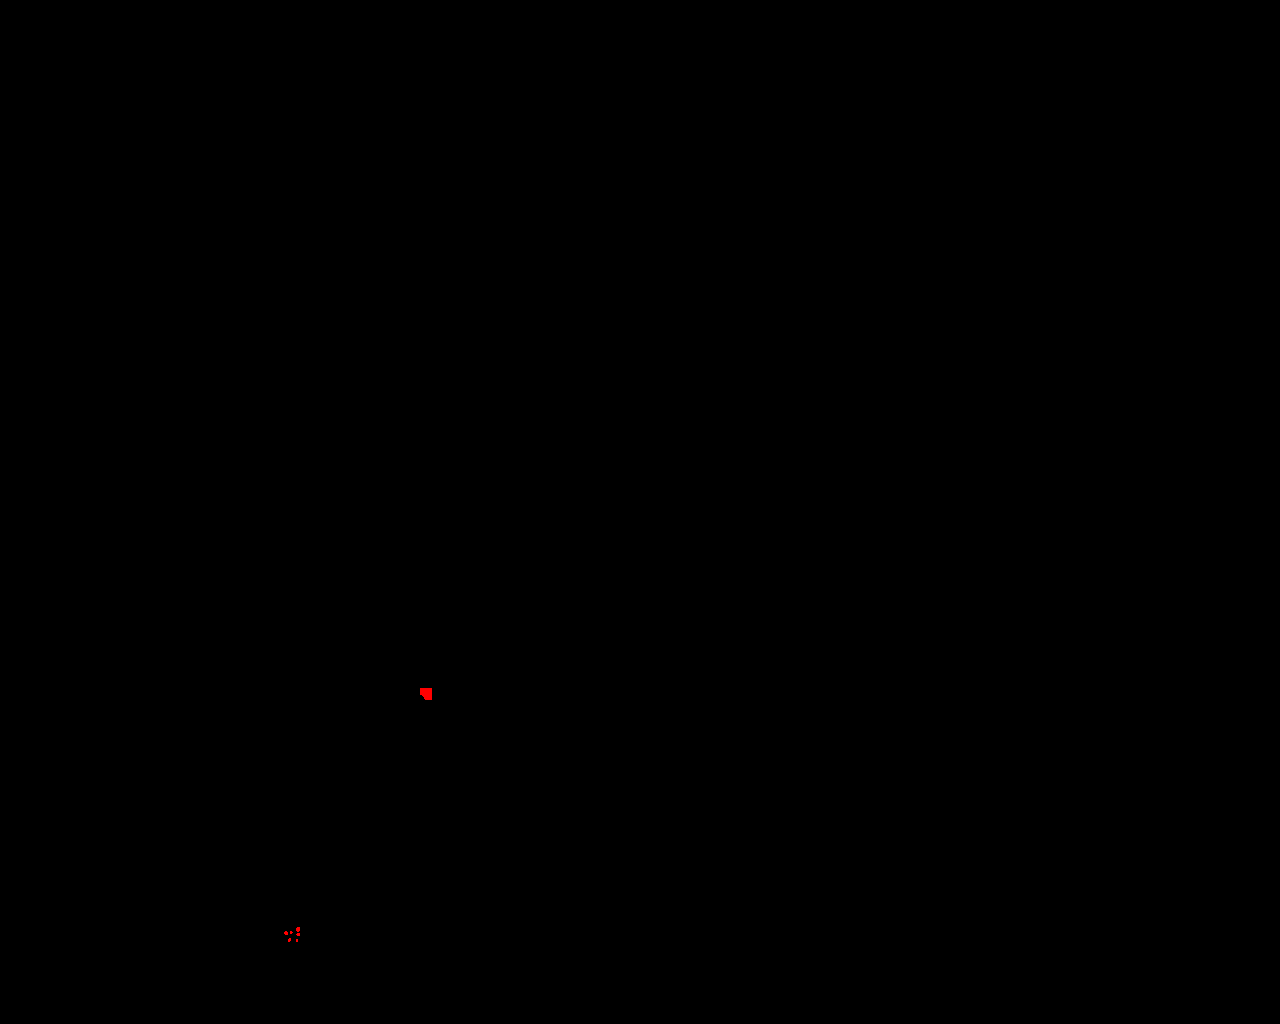Target: (420, 688, 432, 700), (296, 927, 300, 932), (284, 931, 288, 935), (296, 933, 300, 936), (288, 938, 290, 942), (290, 931, 293, 934), (296, 939, 298, 942)
